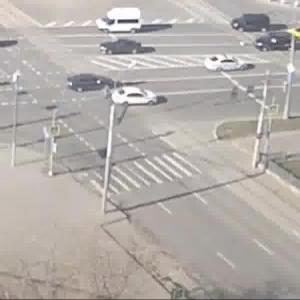car: (92, 8, 148, 35), (249, 31, 300, 55), (69, 74, 117, 96), (110, 89, 161, 109), (100, 37, 144, 58), (234, 12, 281, 31), (208, 54, 251, 73)
